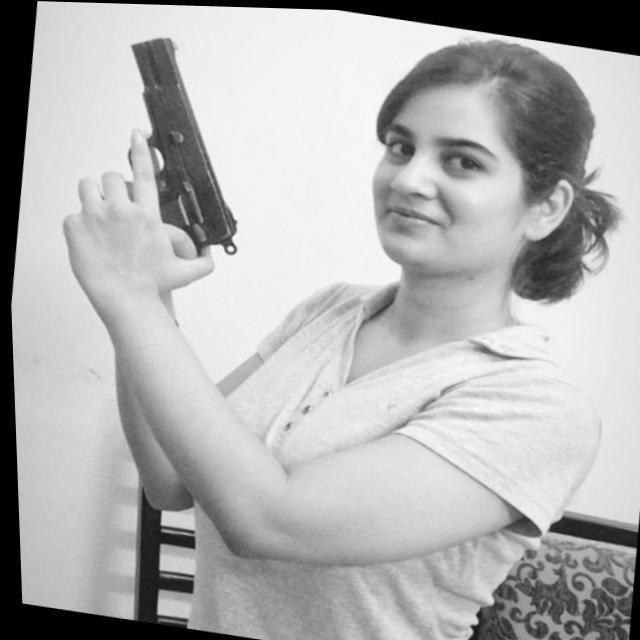weapon: (70, 23, 270, 282)
